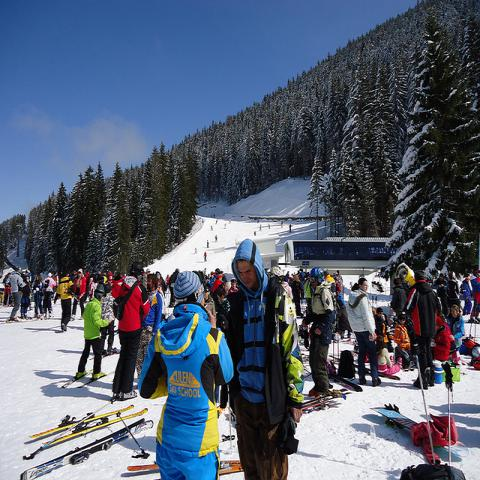bus: (282, 237, 402, 303)
